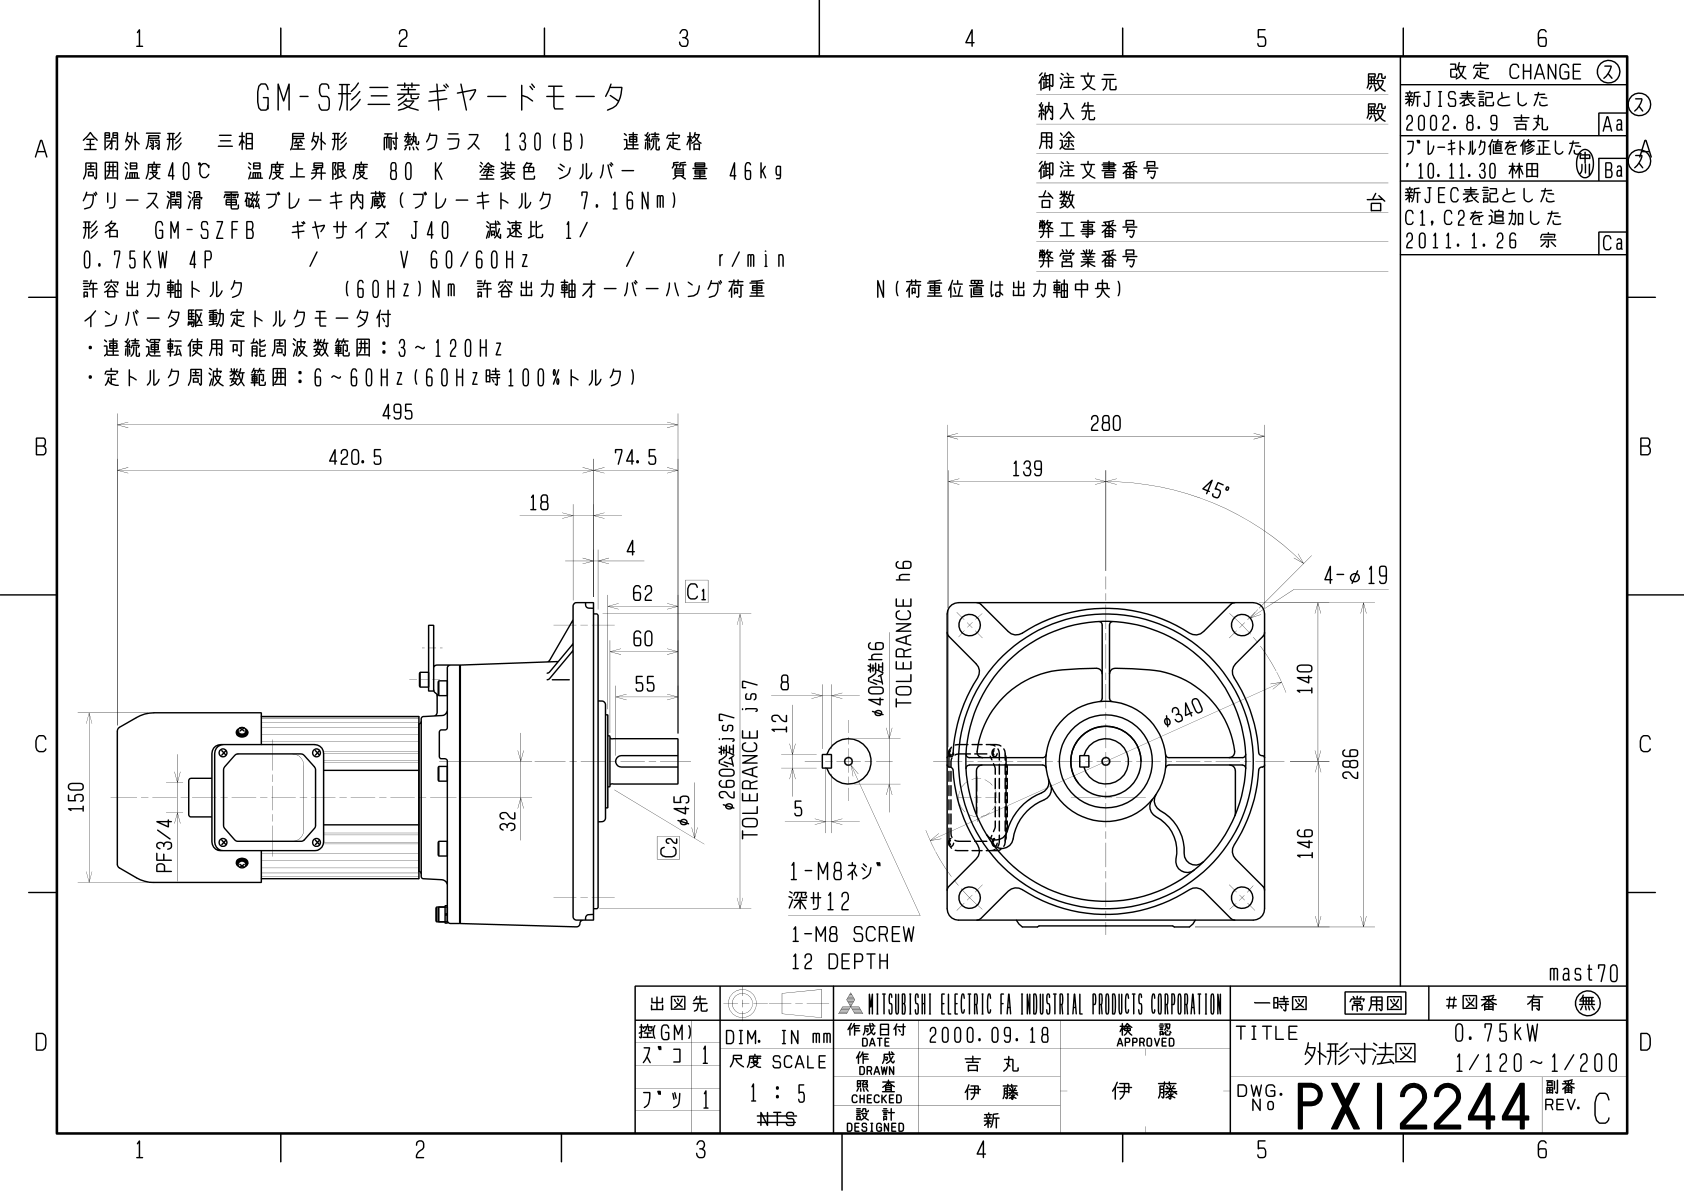GM_S_インバタ屋外＿三相_フランジ: (58, 396, 1393, 974)
